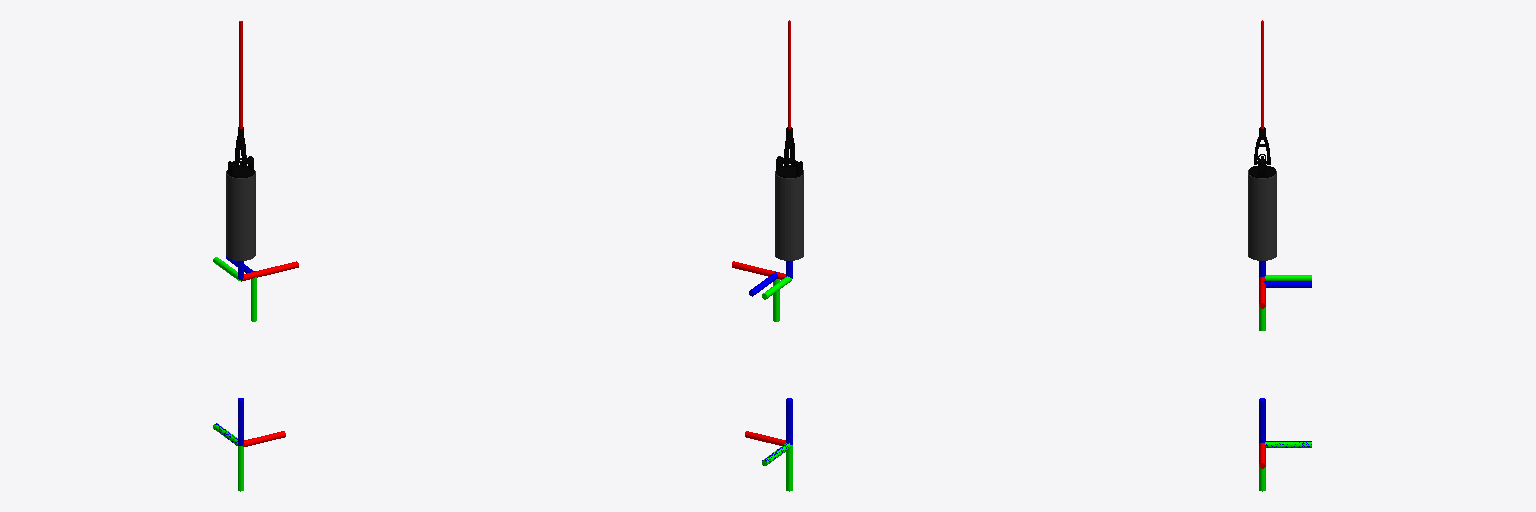
URDF robot description (wam_4dof):
<?xml version="1.0" ?>

<robot name="wam_4dof">

    <material name="dark_red">
        <color rgba="0.78 0. 0. 1."/>
    </material>

    <material name="black">
        <color rgba="0.05 0.05 0.05 1"/>
    </material>

    <material name="red">
        <color rgba="1 0 0 1"/>
    </material>

    <material name="green">
        <color rgba="0 1 0 1"/>
    </material>

    <material name="blue">
        <color rgba="0 0 1 1"/>
    </material>

    <material name="dark">
        <color rgba=".25 .25 .25 1"/>
    </material>

    <material name="lightest_grey">
        <color rgba="0.85 0.85 0.85 1"/>
    </material>

    <material name="light_grey">
        <color rgba="0.78 0.75 0.7 1"/>
    </material>

    <material name="dark_grey">
        <color rgba="0.6 0.6 0.6 1"/>
    </material>

    <link name="links/world"/>

    <link name="links/base">
        <inertial>
            <mass value="9.97059584"/>
            <origin xyz="0.1998 -0.1260 0.2053" rpy="1.5605 0.0894 0.6977"/>
            <inertia ixx="0.08709498" ixy="0." ixz="0." iyy="0.13911978" iyz="0." izz="0.18350061"/>
        </inertial>
        <visual>
            <origin xyz="0.22 0.14 0." rpy="0 0 0"/>
            <geometry name="wam_base_visual">
                <mesh filename="base_link_fine.stl"/>
            </geometry>
            <material name="light_grey"/>
        </visual>
        <collision>
            <origin xyz="0.22 0.14 0.346" rpy="0 0 0"/>
            <geometry name="wam_base_collision">
                <mesh filename="base_link_convex.stl"/>
            </geometry>
        </collision>
    </link>

    <link name="frames/0">
        <visual>
            <origin xyz="0.075 0 0" rpy="0 1.570796327 0"/>
            <geometry name="x_axis">
                <cylinder length="0.15" radius="0.01"/>
            </geometry>
            <material name="red"/>
        </visual>
        <visual>
            <origin xyz="0 0.075 0" rpy="1.570796327 0 0"/>
            <geometry name="y_axis">
                <cylinder length="0.15" radius="0.01"/>
            </geometry>
            <material name="green"/>
        </visual>
        <visual>
            <origin xyz="0 0 0.075" rpy="0 0 0"/>
            <geometry name="z_axis">
                <cylinder length="0.15" radius="0.01"/>
            </geometry>
            <material name="blue"/>
        </visual>
    </link>

    <link name="links/shoulder_yaw">
        <inertial>
            <mass value="10.76768767"/>
            <origin xyz="-0.0044 -0.0007 -0.1219" rpy="1.6016 0.0973 1.5751"/>
            <inertia ixx="0.09044192" ixy="0." ixz="0." iyy="0.11309685" iyz="0." izz="0.13508855"/>
        </inertial>
        <visual>
            <origin rpy="0 0 0" xyz="0 0 0"/>
            <geometry name="link_shoulder_yaw_visual">
                <mesh filename="shoulder_link_fine.stl"/>
            </geometry>
            <material name="light_grey"/>
        </visual>
        <collision>
            <origin rpy="0 0 0" xyz="0 0 0"/>
            <geometry name="link_shoulder_yaw_collision1">
                <mesh filename="shoulder_link_convex_decomposition_p1.stl"/>
            </geometry>
        </collision>
        <collision>
            <origin rpy="0 0 0" xyz="0 0 0"/>
            <geometry name="link_shoulder_yaw_collision2">
                <mesh filename="shoulder_link_convex_decomposition_p2.stl"/>
            </geometry>
        </collision>
        <collision>
            <origin rpy="0 0 0" xyz="0 0 0"/>
            <geometry name="link_shoulder_yaw_collision3">
                <mesh filename="shoulder_link_convex_decomposition_p3.stl"/>
            </geometry>
        </collision>
    </link>

    <link name="frames/1">
        <visual>
            <origin xyz="0.075 0 0" rpy="0 1.570796327 0"/>
            <geometry name="x_axis">
                <cylinder length="0.15" radius="0.01"/>
            </geometry>
            <material name="red"/>
        </visual>
        <visual>
            <origin xyz="0 0.075 0" rpy="1.570796327 0 0"/>
            <geometry name="y_axis">
                <cylinder length="0.15" radius="0.01"/>
            </geometry>
            <material name="green"/>
        </visual>
        <visual>
            <origin xyz="0 0 0.075" rpy="0 0 0"/>
            <geometry name="z_axis">
                <cylinder length="0.15" radius="0.01"/>
            </geometry>
            <material name="blue"/>
        </visual>
    </link>

    <link name="links/shoulder_pitch">
        <inertial>
            <mass value="3.87493756"/>
            <origin xyz="-0.0024 -0.0154 0.0311" rpy="0.5527 -0.0348 -1.5459"/>
            <inertia ixx="0.01264653" ixy="0." ixz="0." iyy="0.01671014" iyz="0." izz="0.02142072"/>
        </inertial>
        <visual>
            <origin rpy="0 0 0" xyz="0 0 0"/>
            <geometry name="link_shoulder_pitch_visual">
                <mesh filename="shoulder_pitch_link_fine.stl"/>
            </geometry>
            <material name="dark_grey"/>
        </visual>
        <collision>
            <origin rpy="0 0 0" xyz="0 0 0"/>
            <geometry name="link_shoulder_pitch_collision">
                <mesh filename="shoulder_pitch_link_convex.stl"/>
            </geometry>
        </collision>
    </link>

    <link name="frames/2">
        <visual>
            <origin xyz="0.075 0 0" rpy="0 1.570796327 0"/>
            <geometry name="x_axis">
                <cylinder length="0.15" radius="0.01"/>
            </geometry>
            <material name="red"/>
        </visual>
        <visual>
            <origin xyz="0 0.075 0" rpy="1.570796327 0 0"/>
            <geometry name="y_axis">
                <cylinder length="0.15" radius="0.01"/>
            </geometry>
            <material name="green"/>
        </visual>
        <visual>
            <origin xyz="0 0 0.075" rpy="0 0 0"/>
            <geometry name="z_axis">
                <cylinder length="0.15" radius="0.01"/>
            </geometry>
            <material name="blue"/>
        </visual>
    </link>

    <link name="links/upper_arm">
        <inertial>
            <mass value="1.80228141"/>
            <origin xyz="0.0067 0.0000 0.3425" rpy="0.3219 -1.4307 -1.8954"/>
            <inertia ixx="0.00313419" ixy="0." ixz="0." iyy="0.05922120" iyz="0." izz="0.05927132"/>
        </inertial>
        <visual>
            <origin rpy="0 0 0" xyz="0 0 0"/>
            <geometry name="link_upper_arm_visual">
                <mesh filename="upper_arm_link_fine.stl"/>
            </geometry>
            <material name="dark"/>
        </visual>
        <collision>
            <origin rpy="0 0 0" xyz="0 0 0"/>
            <geometry name="link_upper_arm_collision1">
                <mesh filename="upper_arm_link_convex_decomposition_p1.stl"/>
            </geometry>
        </collision>
        <collision>
            <origin rpy="0 0 0" xyz="0 0 0"/>
            <geometry name="link_upper_arm_collision1">
                <mesh filename="upper_arm_link_convex_decomposition_p2.stl"/>
            </geometry>
        </collision>
    </link>

    <link name="frames/3">
        <visual>
            <origin xyz="0.075 0 0" rpy="0 1.570796327 0"/>
            <geometry name="x_axis">
                <cylinder length="0.15" radius="0.01"/>
            </geometry>
            <material name="red"/>
        </visual>
        <visual>
            <origin xyz="0 0.075 0" rpy="1.570796327 0 0"/>
            <geometry name="y_axis">
                <cylinder length="0.15" radius="0.01"/>
            </geometry>
            <material name="green"/>
        </visual>
        <visual>
            <origin xyz="0 0 0.075" rpy="0 0 0"/>
            <geometry name="z_axis">
                <cylinder length="0.15" radius="0.01"/>
            </geometry>
            <material name="blue"/>
        </visual>
    </link>

    <link name="links/forearm">
        <inertial>
            <mass value="1.06513649"/>
            <origin xyz="-0.0340 -0.1405 -0.0000" rpy="0.1006 -1.4741 3.0417"/>
            <inertia ixx="0.00181989" ixy="0." ixz="0." iyy="0.01864102" iyz="0." izz="0.01891661"/>
        </inertial>
        <visual>
            <origin rpy="0 0 0" xyz="0 0 0"/>
            <geometry name="link_forearm_visual1">
                <mesh filename="elbow_link_fine.stl"/>
            </geometry>
            <material name="lightest_grey"/>
        </visual>
        <visual>
            <origin rpy="1.570796 0 0" xyz="-0.045 -0.214 0"/>
            <geometry name="link_forearm_visual2">
                <cylinder radius=".0445" length="0.272"/>
            </geometry>
            <material name="dark"/>
        </visual>
        <collision>
            <origin rpy="0 0 0" xyz="0 0 0"/>
            <geometry name="link_forearm_collision1">
                <mesh filename="elbow_link_convex.stl"/>
            </geometry>
        </collision>
        <collision>
            <origin rpy="1.570796 0 0" xyz="-0.045 -0.214 0"/>
            <geometry name="link_forearm_collision2">
                <cylinder radius=".0445" length="0.136"/>
            </geometry>
        </collision>
    </link>

    <link name="frames/4">
        <visual>
            <origin xyz="0.075 0 0" rpy="0 1.570796327 0"/>
            <geometry name="x_axis">
                <cylinder length="0.15" radius="0.01"/>
            </geometry>
            <material name="red"/>
        </visual>
        <visual>
            <origin xyz="0 0.075 0" rpy="1.570796327 0 0"/>
            <geometry name="y_axis">
                <cylinder length="0.15" radius="0.01"/>
            </geometry>
            <material name="green"/>
        </visual>
        <visual>
            <origin xyz="0 0 0.075" rpy="0 0 0"/>
            <geometry name="z_axis">
                <cylinder length="0.15" radius="0.01"/>
            </geometry>
            <material name="blue"/>
        </visual>
    </link>

    <link name="frames/5">
        <inertial>
            <mass value="0.15"/>
            <origin xyz="0 0 0"/>
            <inertia ixx="0.0000001" ixy="0." ixz="0." iyy="0.0000001" iyz="0." izz="0.0000001"/>
        </inertial>
    </link>

    <link name="links/pendulum/base">
        <inertial>
            <mass value="4.2279e-02"/>
            <origin xyz="3.1584e-07 -7.0909e-05 1.7049e-02" rpy="1.6670e+00 1.5708e+00 0.0000e+00"/>
            <inertia ixx="4.5539e-05" ixy="0." ixz="0." iyy="4.5079e-05" iyz="0." izz="1.8135e-05"/>
        </inertial>
        <visual>
            <origin xyz="0. 0. 0." rpy="0 0 0"/>
            <geometry name="pendulum_base_visual">
                <mesh filename="pendulum_base.stl"/>
            </geometry>
            <material name="black"/>
        </visual>
    </link>

    <link name="links/pendulum/rotating_x_axis">
        <inertial>
            <mass value="1.7421e-02"/>
            <origin xyz="3.1559e-08 3.2056e-05 7.8465e-08" rpy="-1.5708e+00 1.5708e+00 0.0000e+00"/>
            <inertia ixx="7.7849e-06" ixy="0." ixz="0." iyy="7.4161e-06" iyz="0." izz="6.1774e-07"/>
        </inertial>
        <visual>
            <origin xyz="0. 0. 0." rpy="0 0 0"/>
            <geometry name="pendulum_rotating_x_axis_visual">
                <mesh filename="pendulum_rotating_x_axis.stl"/>
            </geometry>
            <material name="black"/>
        </visual>
    </link>

    <link name="links/pendulum/pole_mount">
        <inertial>
            <mass value="2.3914e-02"/>
            <origin xyz="-2.2766e-05 -6.9707e-05 4.6604e-02" rpy="2.8147e-03 -8.0257e-04 -3.1404e+00"/>
            <inertia ixx="3.6422e-05" ixy="0." ixz="0." iyy="3.2365e-05" iyz="0." izz="4.7646e-06"/>
        </inertial>
        <visual>
            <origin xyz="0. 0. 0." rpy="0 0 0"/>
            <geometry name="pendulum_pole_mount_visual">
                <mesh filename="pendulum_pole_mount.stl"/>
            </geometry>
            <material name="black"/>
        </visual>
    </link>

    <link name="links/pendulum/pole">
        <inertial>
            <mass value="7.93e-02"/>
            <origin xyz="0. 0. 0.187" rpy="0.0000e+00 0.0000e+00 0.0000e+00"/>
            <inertia ixx="9.2484e-04" ixy="0." ixz="0." iyy="9.2484e-04" iyz="0." izz="9.9125e-07"/>
        </inertial>
        <visual>
            <origin xyz="0 0 0.187" rpy="0 0 0"/>
            <geometry name="x_axis">
                <cylinder length="0.374" radius="0.005"/>
            </geometry>
            <material name="red"/>
        </visual>
    </link>

    <link name="links/pendulum/pole_tip"/>

    <joint name="transformations/base" type="fixed">
        <parent link="links/world"/>
        <child link="links/base"/>
        <origin xyz="0 0 1.8" rpy="0 0 0"/>
    </joint>

    <joint name="transformations/frames/0" type="fixed">
        <origin xyz="0.22 0.14 0.346" rpy="0 0 0"/>
        <parent link="links/base"/>
        <child link="frames/0"/>
    </joint>

    <joint name="joints/shoulder_yaw" type="revolute">
        <origin xyz="0.22 0.14 0.346" rpy="0 0 0"/>
        <parent link="links/base"/>
        <child link="links/shoulder_yaw"/>
        <axis xyz="0 0 1"/>
        <dynamics damping="1.31174" friction="1.70477"/>
        <limit effort="1500" lower="-2.6" upper="2.6" velocity="200"/>
    </joint>

    <joint name="transformations/frames/1" type="fixed">
        <origin xyz="0. 0. 0." rpy="-1.570796 0 0"/>
        <parent link="links/shoulder_yaw"/>
        <child link="frames/1"/>
    </joint>

    <joint name="joints/shoulder_pitch" type="revolute">
        <origin xyz="0 0 0" rpy="-1.570796 0 0"/>
        <parent link="links/shoulder_yaw"/>
        <child link="links/shoulder_pitch"/>
        <axis xyz="0 0 1"/>
        <dynamics damping="0.492821" friction="1.43072"/>
        <limit effort="1250" lower="-2.0" upper="2.0" velocity="200"/>
    </joint>

    <joint name="transformations/frames/2" type="fixed">
        <origin xyz="0. 0. 0." rpy="1.570796 0 0"/>
        <parent link="links/shoulder_pitch"/>
        <child link="frames/2"/>
    </joint>

    <joint name="joints/shoulder_roll" type="revolute">
        <origin xyz="0 0 0" rpy="1.570796 0 0"/>
        <parent link="links/shoulder_pitch"/>
        <child link="links/upper_arm"/>
        <axis xyz="0 0 1"/>
        <dynamics damping="1.48827" friction="0.685072"/>
        <limit effort="400" lower="-2.8" upper="2.8" velocity="200"/>
    </joint>

    <joint name="transformations/frames/3" type="fixed">
        <origin rpy="-1.570796 0. 0." xyz="0.045 0 0.55"/>
        <parent link="links/upper_arm"/>
        <child link="frames/3"/>
    </joint>

    <joint name="joints/elbow" type="revolute">
        <origin rpy="-1.570796 0 0" xyz="0.045 0 0.55"/>
        <parent link="links/upper_arm"/>
        <child link="links/forearm"/>
        <axis xyz="0 0 1"/>
        <dynamics damping="0.150353" friction="0.854358"/>
        <limit effort="600" lower="-0.9" upper="3.14159" velocity="200"/>
    </joint>

    <joint name="transformations/frames/4" type="fixed">
        <origin rpy="1.570796 0. 0." xyz="-0.045 0 0"/>
        <parent link="links/forearm"/>
        <child link="frames/4"/>
    </joint>

    <joint name="transformations/frames/5" type="fixed">
        <origin rpy="1.570796 0. 0." xyz="-0.045 -0.35 0"/>
        <parent link="links/forearm"/>
        <child link="frames/5"/>
    </joint>

    <joint name="transformations/pendulum/base" type="fixed">
        <parent link="links/forearm"/>
        <child link="links/pendulum/base"/>
        <origin xyz="-0.045 -0.35 0" rpy="1.570796 0 0"/>
    </joint>

    <joint name="transformations/pendulum/x_axis" type="revolute">
        <origin xyz="0 0 0.0325" rpy="0 0 0"/>
        <parent link="links/pendulum/base"/>
        <child link="links/pendulum/rotating_x_axis"/>
        <axis xyz="1 0 0"/>
        <dynamics damping="0.001" friction="0"/>
        <limit effort="0" lower="-1.9" upper="1.9" velocity="200"/>
    </joint>

    <joint name="transformations/pendulum/y_axis" type="revolute">
        <origin xyz="0 0 0" rpy="0 0 0"/>
        <parent link="links/pendulum/rotating_x_axis"/>
        <child link="links/pendulum/pole_mount"/>
        <axis xyz="0 1 0"/>
        <dynamics damping="0.001" friction="0"/>
        <limit effort="0" lower="-1.9" upper="1.9" velocity="200"/>
    </joint>

    <joint name="transformations/pendulum/pole" type="fixed">
        <parent link="links/pendulum/pole_mount"/>
        <child link="links/pendulum/pole"/>
        <origin xyz="0 0 0.0935" rpy="0 0 0"/>
    </joint>

    <joint name="transformations/pendulum/pole_tip" type="fixed">
        <parent link="links/pendulum/pole"/>
        <child link="links/pendulum/pole_tip"/>
        <origin xyz="0 0 0.374" rpy="0 0 0"/>
    </joint>

</robot>

--- Render facts (derived) ---
Views: 3 orthographic renders of the robot side by side, from view 1: azimuth 30°, elevation 25°; view 2: azimuth 150°, elevation 25°; view 3: azimuth 270°, elevation 25°.
Model wam_4dof with 17 links and 16 joints (6 revolute, 10 fixed), rooted at links/world, posed all joints at 0.
Visible links, largest first — view 1: links/forearm, frames/0, frames/3; view 2: links/forearm, frames/0, frames/3; view 3: links/forearm, frames/0, frames/3.
Boxes of the visible links, bbox=[...] form: links/forearm: bbox=[226, 171, 255, 260]; frames/0: bbox=[213, 398, 285, 446]; frames/3: bbox=[226, 256, 298, 321]; links/forearm: bbox=[775, 170, 803, 260]; frames/0: bbox=[745, 398, 792, 465]; frames/3: bbox=[732, 261, 779, 321]; links/forearm: bbox=[1248, 170, 1276, 260]; frames/0: bbox=[1259, 398, 1311, 468]; frames/3: bbox=[1259, 281, 1311, 330].
Size in the robot's own frame: 0.2395 by 0.1945 by 1.55 metres.
Meshes: 8 distinct files referenced, 3 mesh visuals loaded (3 binary STL); not drawn: 5 (reference not matched to a file when rendering).
